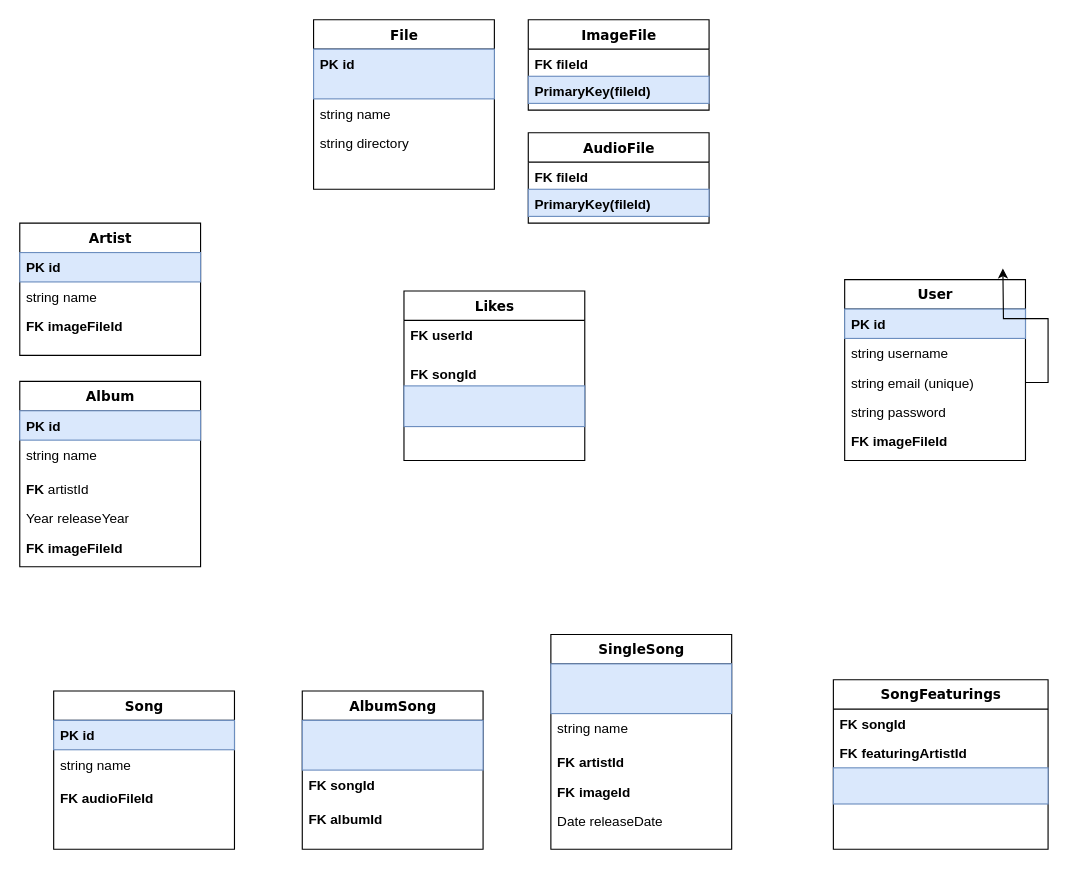
This 1077x869 diagram has some shape labels left out. Each missing label, with the centre of its shape:
PrimaryKey (songId, artistId): the point at 940,785
PrimaryKey(name, artistId): the point at 641,688
PrimaryKey(songId, albumId): the point at 392,744
PrimaryKey(userId, songId): the point at 494,406
